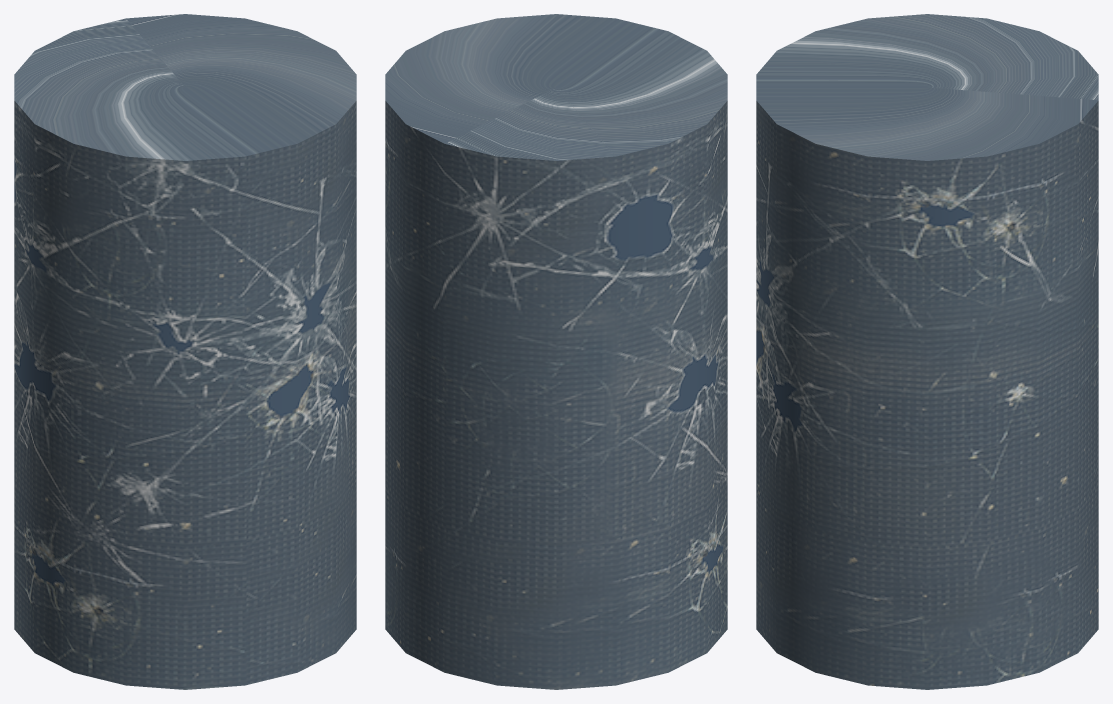
Rendered from shenghua.FBX.
3 renders of one model, left to right at view 1: azimuth 30°, elevation 25°; view 2: azimuth 150°, elevation 25°; view 3: azimuth 270°, elevation 25°, orthographic.
Visible parts, largest first — view 1: Cylinder001; view 2: Cylinder001; view 3: Cylinder001.
Part boxes in pixels (x1,y1,x2,y2): Cylinder001: (14, 14, 356, 689); Cylinder001: (385, 14, 727, 689); Cylinder001: (756, 14, 1098, 689).
Size of the model in its own units: 83.97 by 141 by 82.69.
